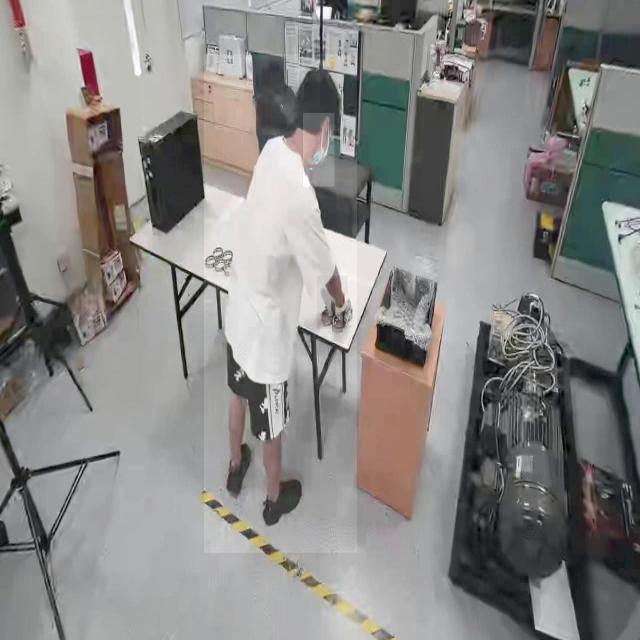face_mask: (303, 113, 335, 187)
hand_glove: (317, 275, 347, 329)
head_nohelmet: (290, 66, 340, 105)
person: (204, 54, 358, 554)
shoes: (258, 472, 308, 533), (228, 438, 253, 500)
